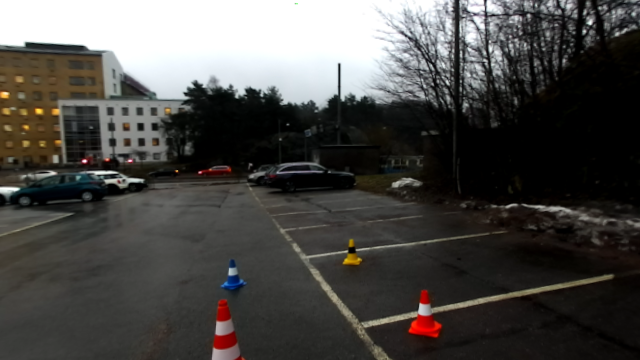blue: (220, 259, 247, 291)
orange: (406, 289, 443, 339)
yellow: (340, 238, 363, 267)
